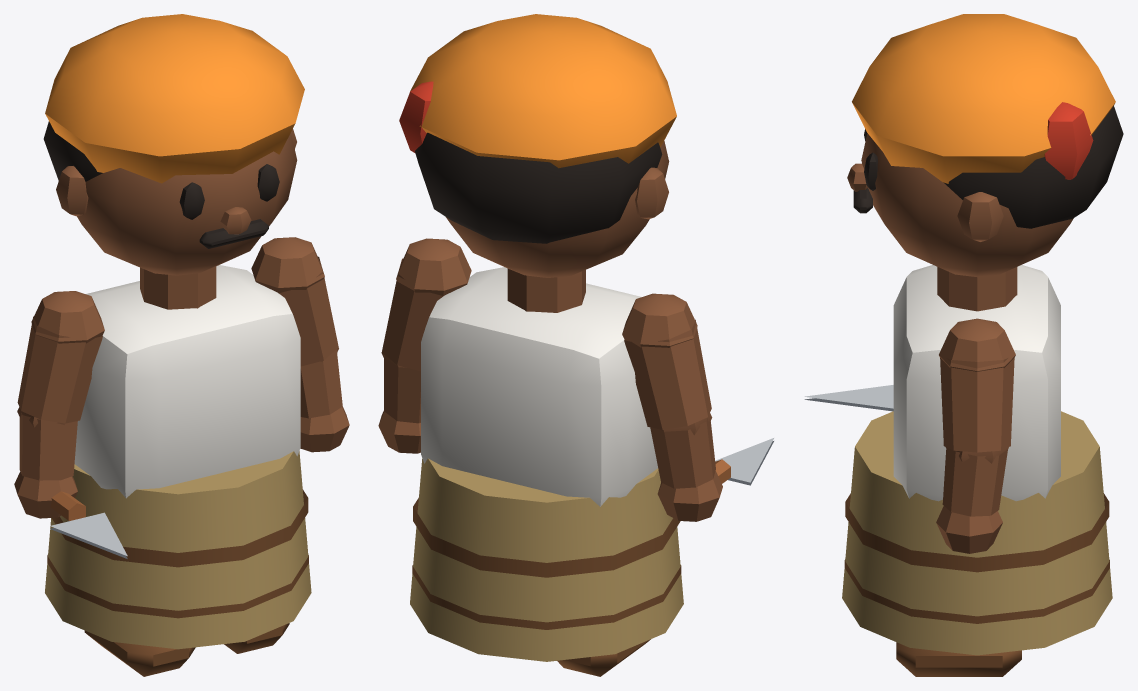
File: worker_mistri.glb
3 renders of one model, left to right at view 1: azimuth 30°, elevation 25°; view 2: azimuth 150°, elevation 25°; view 3: azimuth 270°, elevation 25°, orthographic. The views are drawn at different scales.
Parts seen in each view (by area): view 1: body, head, arm_r, arm_l, leg_r, leg_l; view 2: body, head, arm_r, arm_l, leg_r; view 3: body, head, arm_l, leg_l, arm_r.
Boxes of the visible parts, x1,y1,x2,y2 form: body: [45, 265, 311, 649]; head: [43, 14, 304, 275]; arm_r: [14, 291, 127, 558]; arm_l: [251, 237, 349, 452]; leg_r: [84, 630, 195, 676]; leg_l: [224, 623, 289, 653]; body: [410, 267, 683, 661]; head: [399, 14, 676, 277]; arm_r: [622, 293, 773, 521]; arm_l: [378, 238, 471, 453]; leg_r: [557, 639, 650, 676]; body: [842, 265, 1112, 655]; head: [847, 14, 1123, 277]; arm_l: [936, 318, 1015, 553]; leg_l: [896, 642, 1021, 676]; arm_r: [804, 385, 893, 411].
Bounding box in the file's own units: 0.61 × 1.07 × 0.5069.
Materials: 1 (1 with a texture image).
